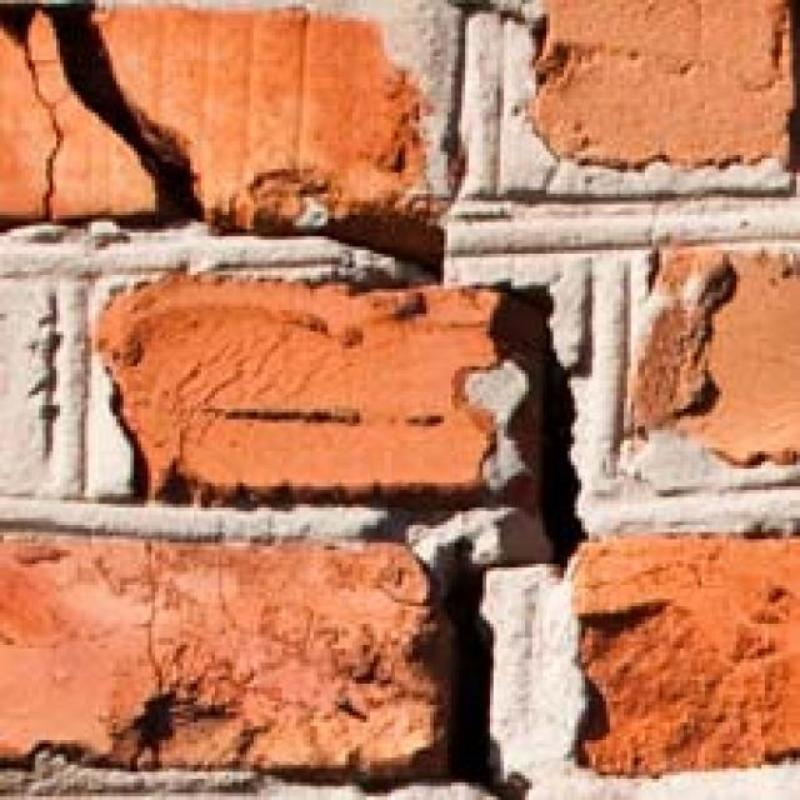pothole: (0, 0, 203, 229), (428, 539, 528, 800), (491, 288, 583, 562), (322, 214, 444, 277)
